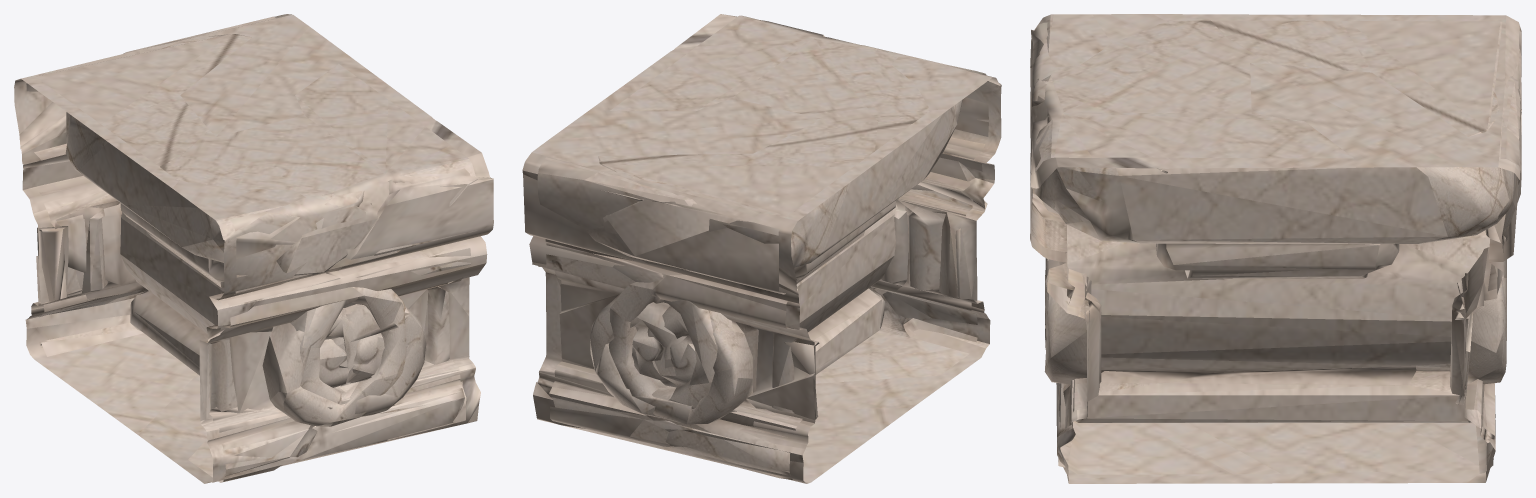
Rendered from marble-frieze-band.glb.
The picture shows the model from 3 angles, left to right: view 1: azimuth 30°, elevation 25°; view 2: azimuth 150°, elevation 25°; view 3: azimuth 270°, elevation 25°; orthographic projection. The views are drawn at different scales.
Visible parts, largest first — view 1: mid, right, left; view 2: right, mid, left; view 3: right, mid, left.
Boxes of the visible parts, <box> form: mid: <box>14,14,493,483</box>; right: <box>26,34,406,482</box>; left: <box>65,16,477,444</box>; right: <box>587,38,988,479</box>; mid: <box>522,14,1001,483</box>; left: <box>537,15,962,447</box>; right: <box>1030,20,1521,422</box>; mid: <box>1030,14,1521,483</box>; left: <box>1030,75,1521,474</box>.
Size of the model in its own units: 0.3148 by 0.3051 by 0.4275.
Materials: 1 (1 with a texture image).
